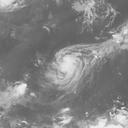cyclone: (49, 43, 92, 88)
